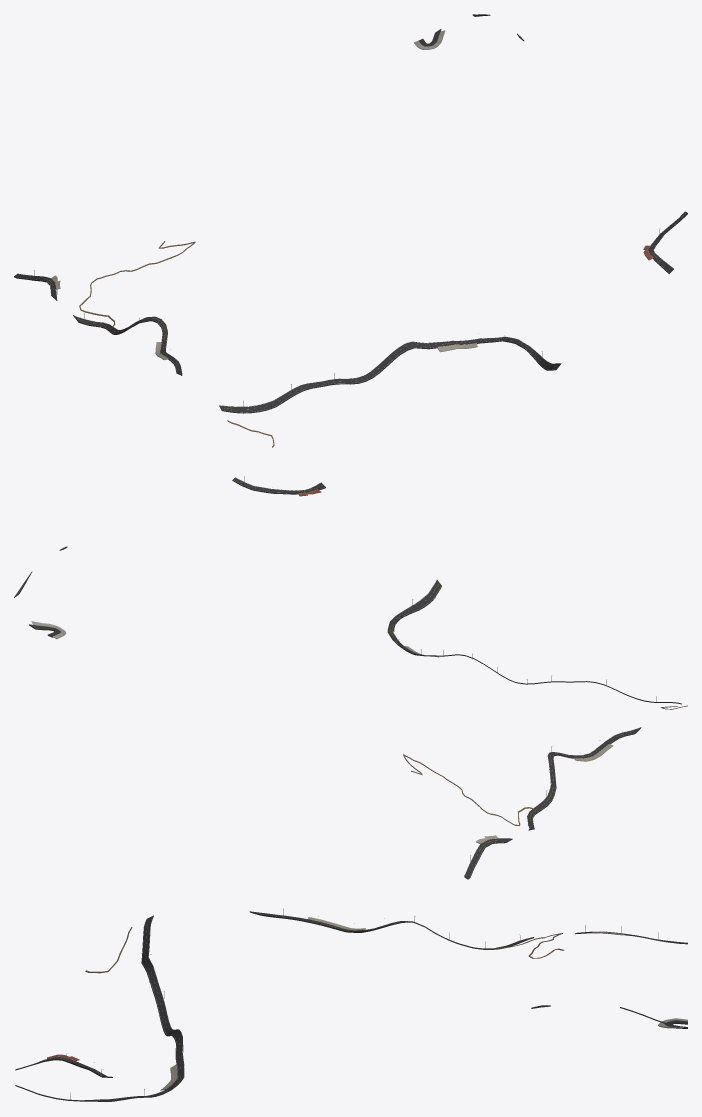
The picture shows the model from 3 angles, top to bottom: view 1: azimuth 30°, elevation 25°; view 2: azimuth 150°, elevation 25°; view 3: azimuth 270°, elevation 25°; orthographic projection. The views are drawn at different scales.
Bounding box in the file's own units: 593 × 225 × 584.
